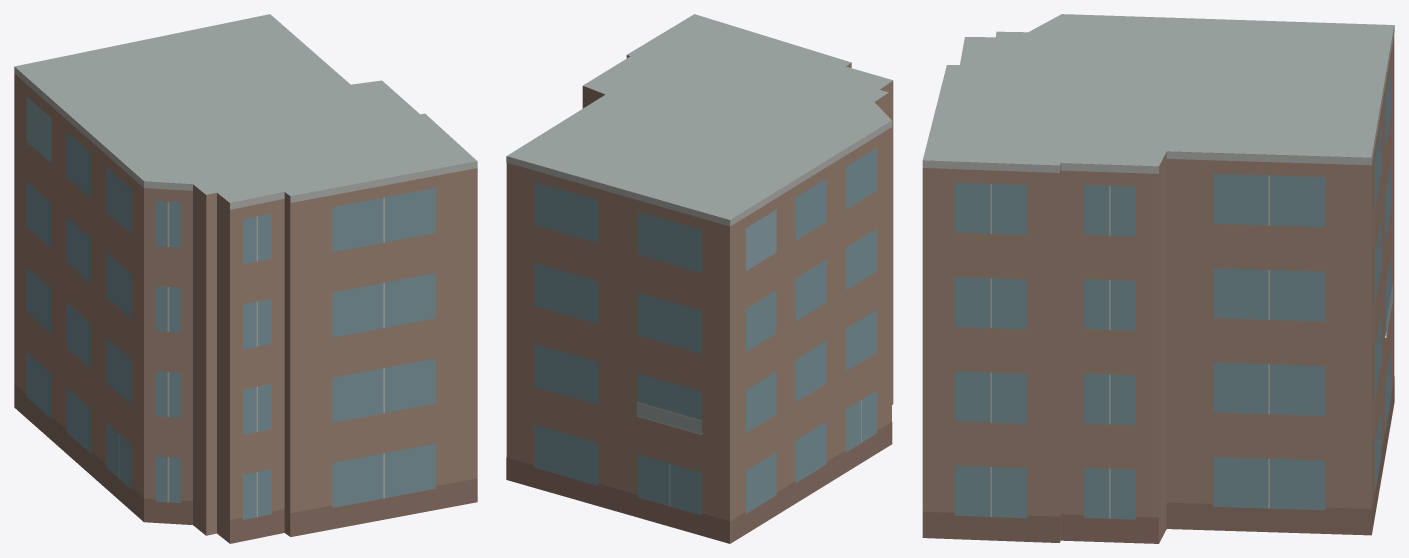
Rendered from survey-upis-32656420.glb.
3 views of the same model, side by side, from view 1: azimuth 30°, elevation 25°; view 2: azimuth 150°, elevation 25°; view 3: azimuth 270°, elevation 25° (orthographic). The views are drawn at different scales.
Parts seen in each view (by area): view 1: survey-upis-32656420.tmp; view 2: survey-upis-32656420.tmp; view 3: survey-upis-32656420.tmp.
Part boxes in pixels (x1,y1,x2,y2): survey-upis-32656420.tmp: (14, 14, 477, 543); survey-upis-32656420.tmp: (506, 14, 893, 543); survey-upis-32656420.tmp: (922, 14, 1394, 543).
Bounding box in the file's own units: 10.57 × 12.2 × 13.83.
